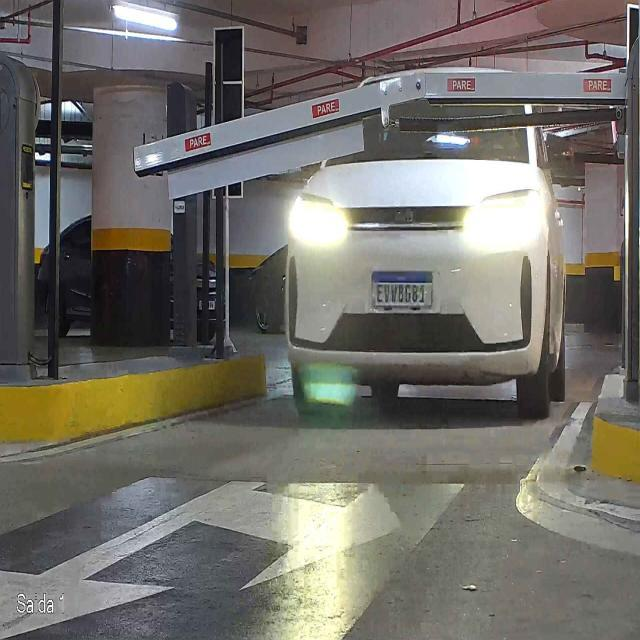mercosul_plate: (367, 266, 438, 312)
